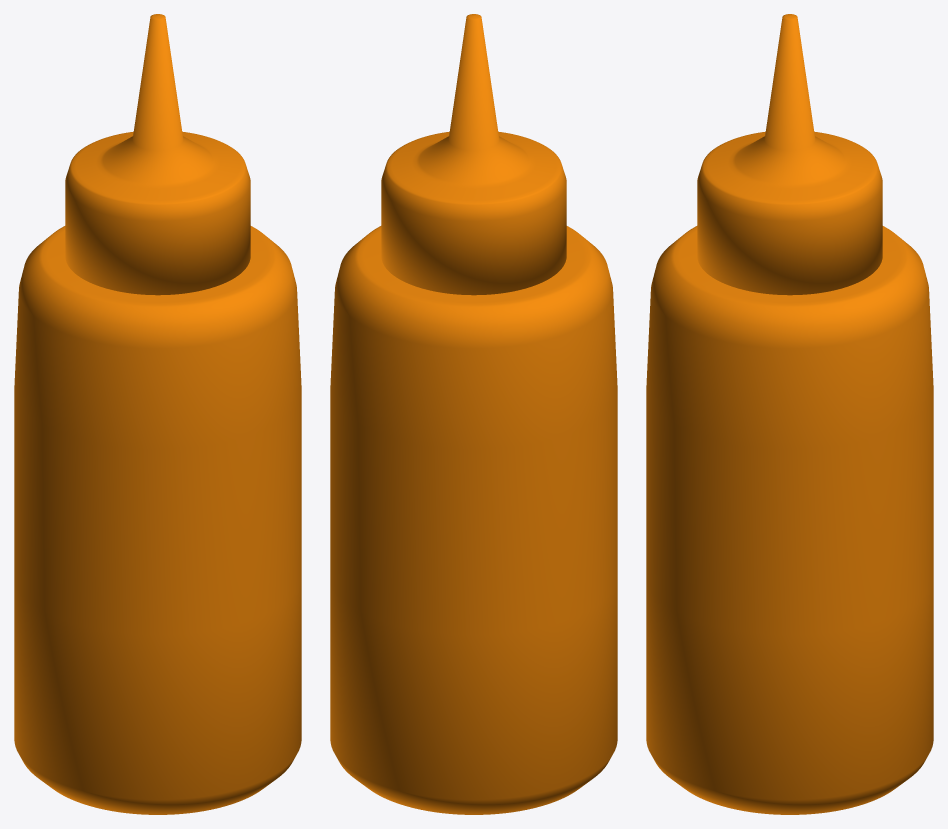
File: mustard.fbx
The picture shows the model from 3 angles, left to right: view 1: azimuth 30°, elevation 25°; view 2: azimuth 150°, elevation 25°; view 3: azimuth 270°, elevation 25°; orthographic projection.
Visible parts, largest first — view 1: ketchupA; view 2: ketchupA; view 3: ketchupA.
Boxes of the visible parts, bbox=[...] form: ketchupA: bbox=[14, 14, 301, 814]; ketchupA: bbox=[330, 14, 617, 814]; ketchupA: bbox=[646, 14, 933, 814].
Bounding box in the file's own units: 17.54 × 50.48 × 17.54.
